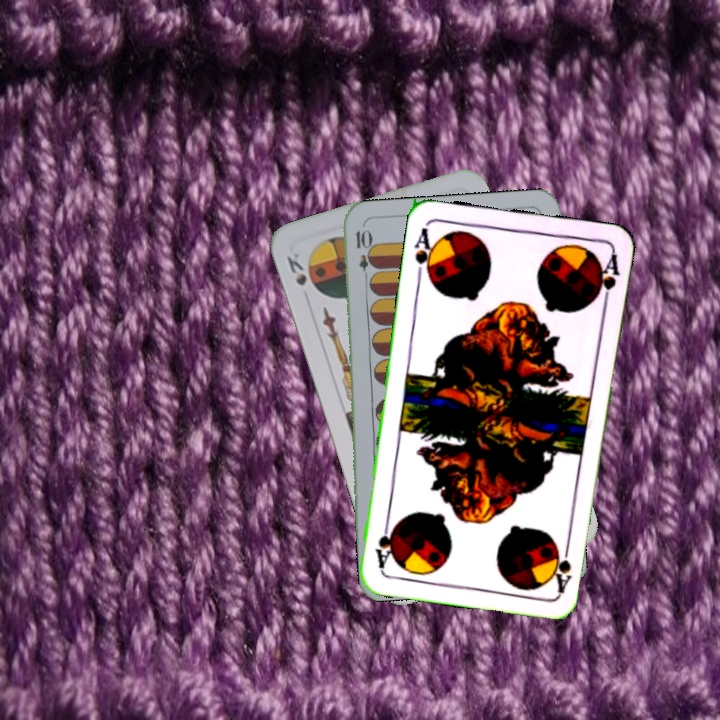E10: (351, 226, 373, 285)
SA: (410, 223, 439, 283), (552, 536, 574, 595)
SK: (282, 248, 319, 295)
